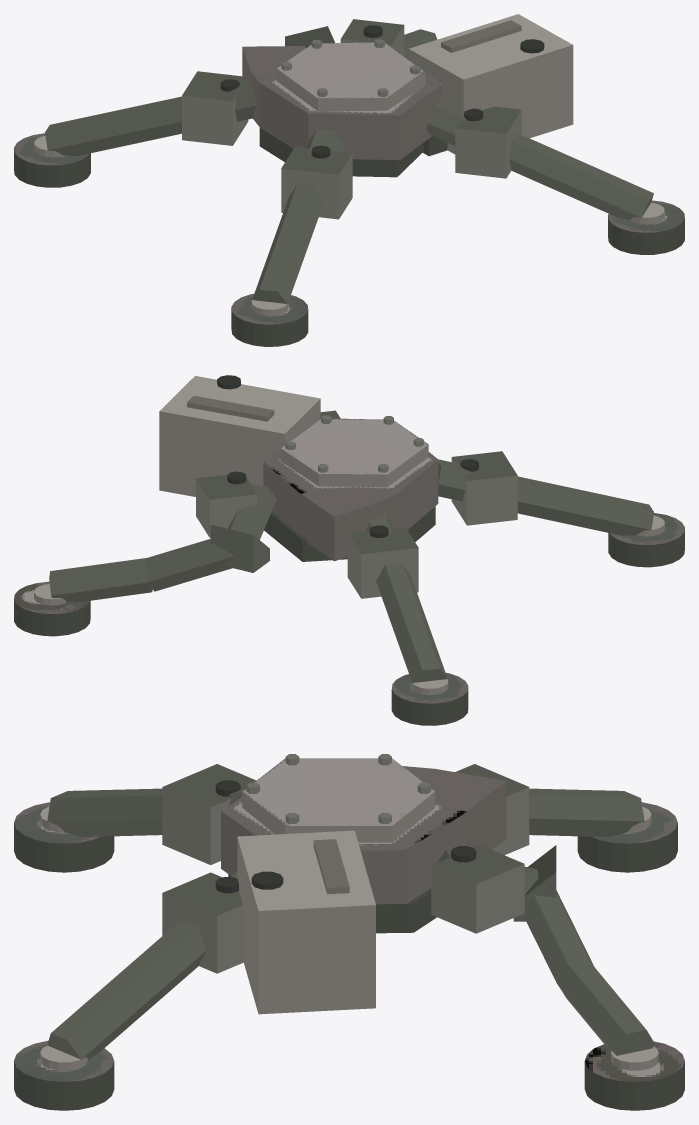
File: Building_AncientMegaCannonTripod__B.glb
3 views of the same model, one above another, from view 1: azimuth 30°, elevation 25°; view 2: azimuth 150°, elevation 25°; view 3: azimuth 270°, elevation 25° (orthographic). The views are drawn at different scales.
Parts seen in each view (by area): view 1: AncientMegaCannonTripod__B; view 2: AncientMegaCannonTripod__B; view 3: AncientMegaCannonTripod__B.
Part boxes in pixels (x1,y1,x2,y2): AncientMegaCannonTripod__B: (14,14,684,346); AncientMegaCannonTripod__B: (14,375,684,725); AncientMegaCannonTripod__B: (14,754,684,1110).
Size of the model in its own units: 2.91 by 0.915 by 2.95.
1 material, 1 textured.
